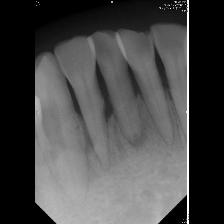apical_lesion: (88, 29, 159, 174)
